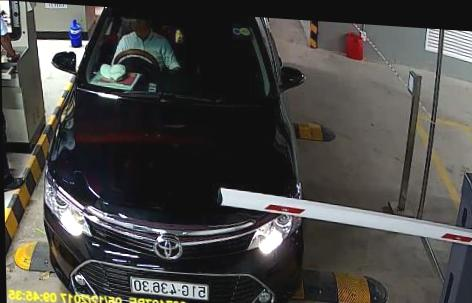License_Plate: (125, 271, 207, 302)
